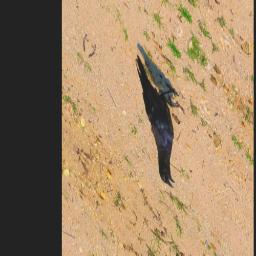Crow: (115, 47, 197, 193)
